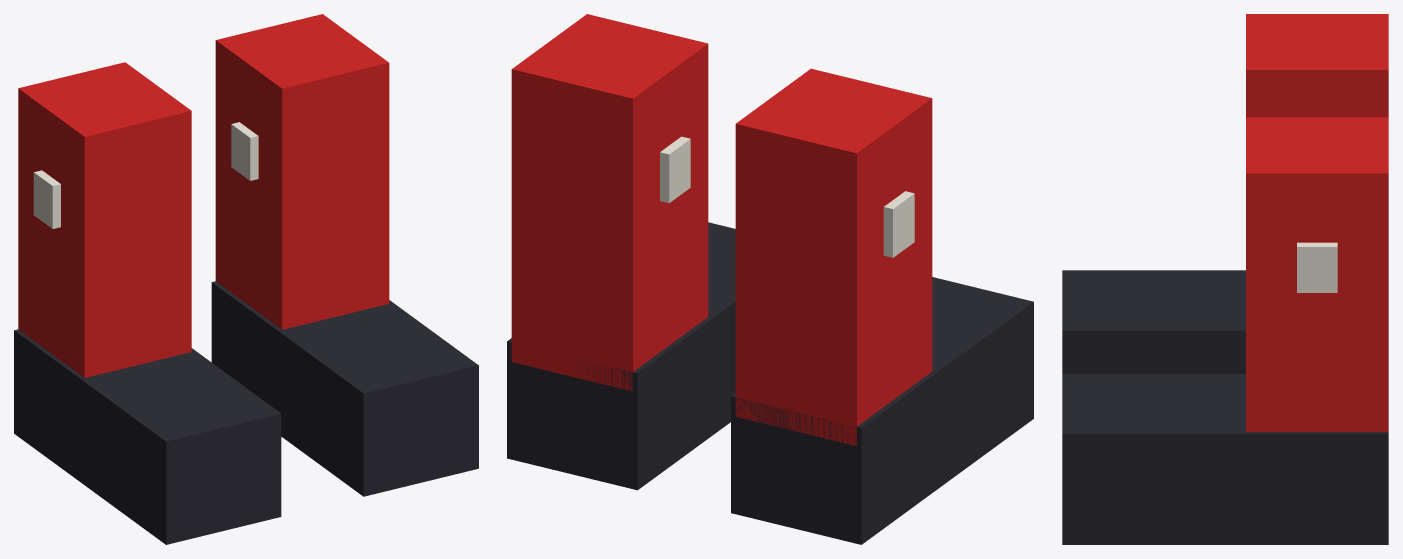
Rendered from ski_boots.glb.
3 views of the same model, side by side, from view 1: azimuth 30°, elevation 25°; view 2: azimuth 150°, elevation 25°; view 3: azimuth 270°, elevation 25° (orthographic). The views are drawn at different scales.
Parts seen in each view (by area): view 1: ski_boots; view 2: ski_boots; view 3: ski_boots.
Part boxes in pixels (x1,y1,x2,y2): ski_boots: [14, 14, 478, 544]; ski_boots: [507, 14, 1033, 544]; ski_boots: [1062, 14, 1388, 544].
Bounding box in the file's own units: 0.39 × 0.4 × 0.32.
